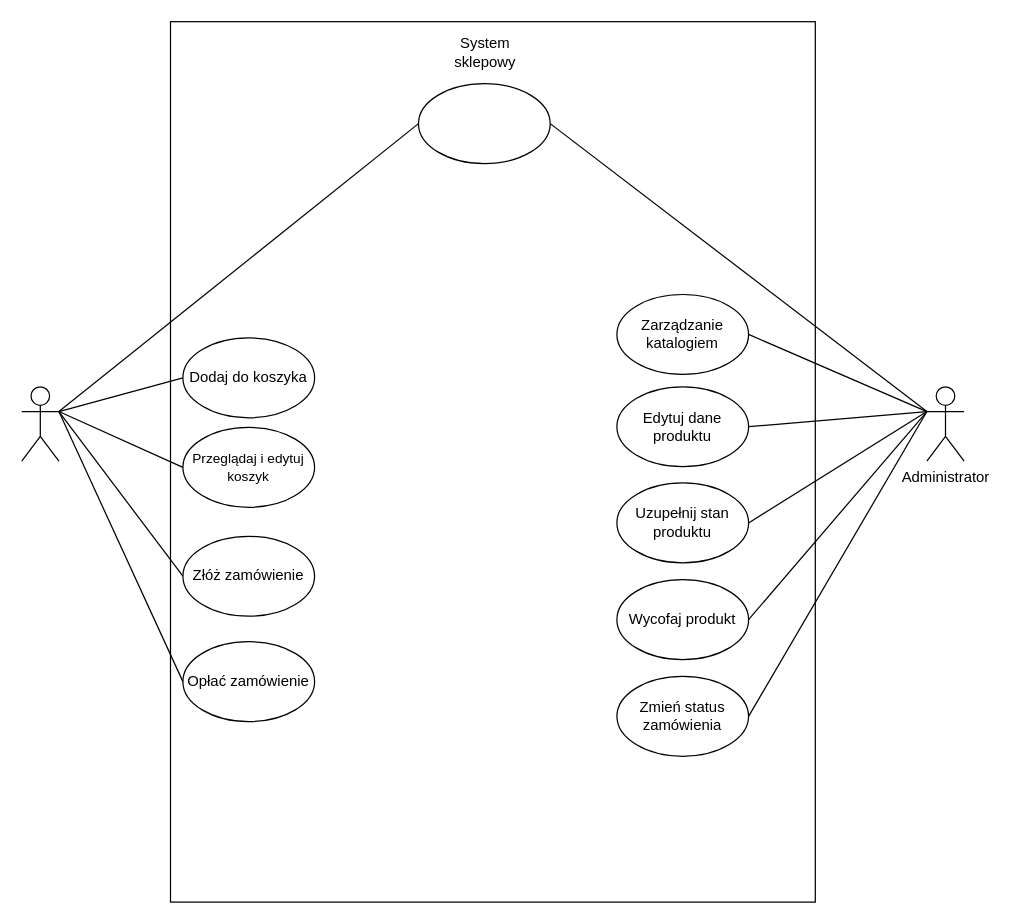
Image size: 1011x924. Some labels were removed from this diagram. Each missing label, with the box of its shape:
Klient: (20, 386, 59, 461)
Wyszukaj produkty: (417, 82, 550, 164)
